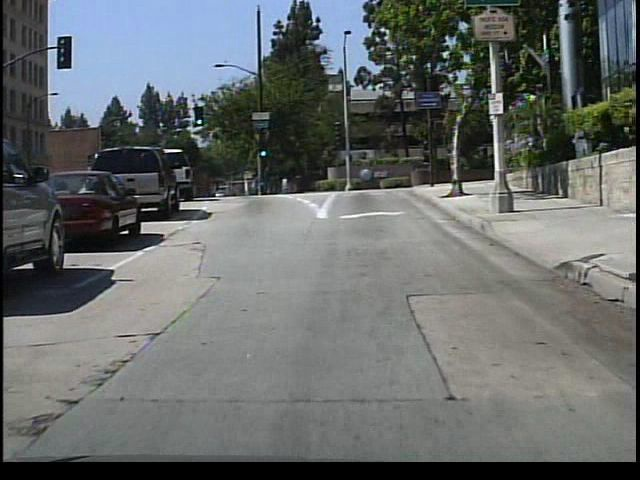person: (247, 168, 264, 198), (277, 171, 292, 197)
